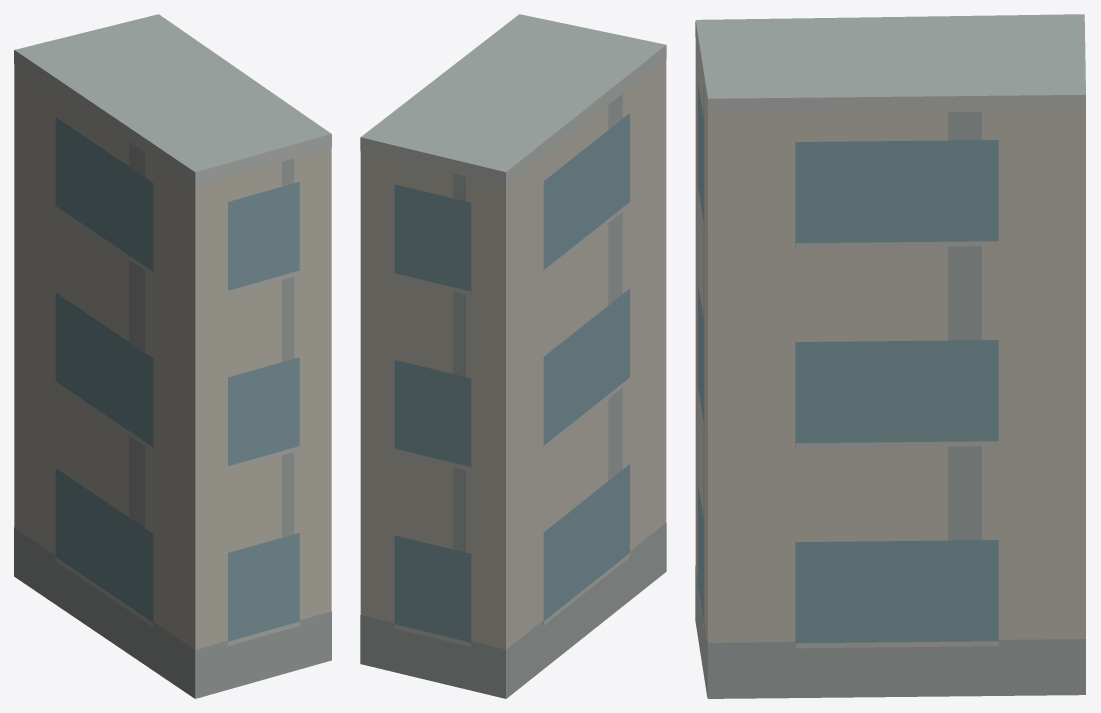
The model's file is survey-upis-32634197.glb.
3 renders of one model, left to right at view 1: azimuth 30°, elevation 25°; view 2: azimuth 150°, elevation 25°; view 3: azimuth 270°, elevation 25°, orthographic. The views are drawn at different scales.
Visible parts, largest first — view 1: survey-upis-32634197.tmp; view 2: survey-upis-32634197.tmp; view 3: survey-upis-32634197.tmp.
Boxes of the visible parts, x1,y1,x2,y2 form: survey-upis-32634197.tmp: (14, 14, 331, 698); survey-upis-32634197.tmp: (360, 14, 666, 698); survey-upis-32634197.tmp: (695, 14, 1085, 698).
Size of the model in its own units: 2.78 by 9.15 by 5.41.
